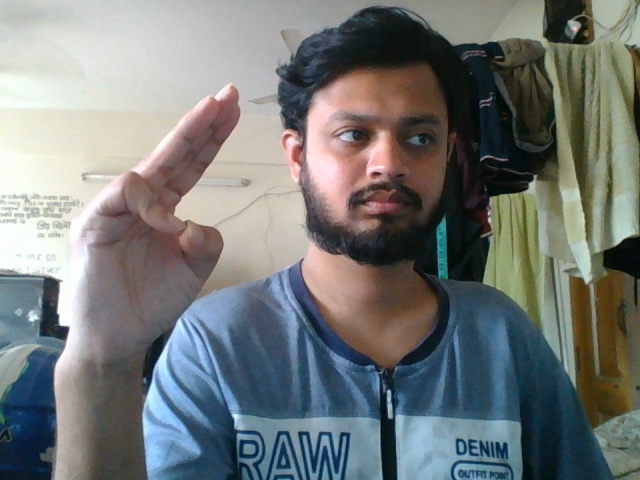ma: (56, 84, 247, 392)
